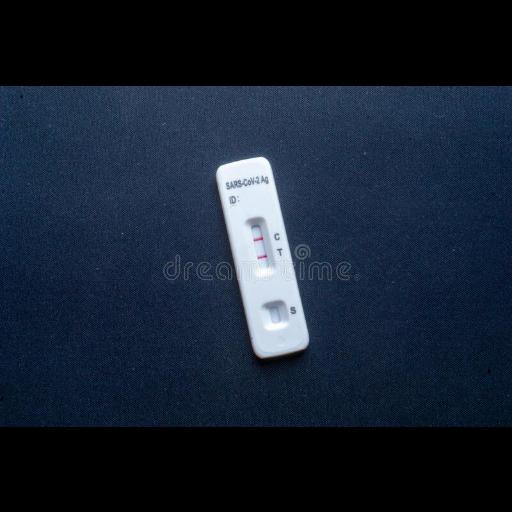Pos: (214, 154, 311, 359)
